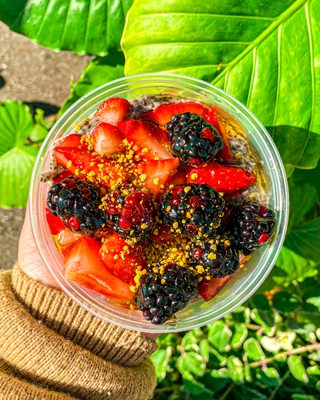sushi: (16, 58, 290, 337)
